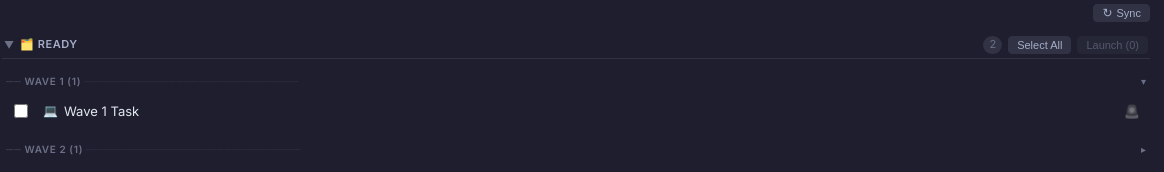
Test: TaskList › "Select All" button only selects Wave 1 code tasks
Click the button with test id "select-all-btn".
click(1040, 45)  # box x1=1008 y1=36 x2=1071 y2=54
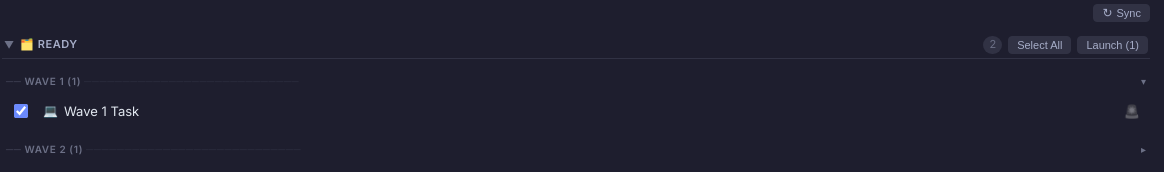
Expected: the checkbox is checked, x1=14 y1=104 x2=28 y2=118
Expected: the button with test id "launch-btn" shows "1", x1=1077 y1=36 x2=1148 y2=54
